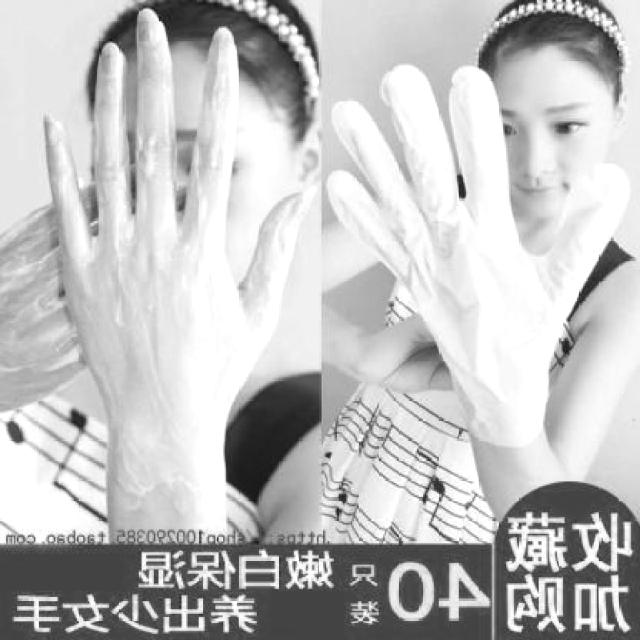face_nomask: (478, 62, 620, 225)
hand_glove: (332, 78, 640, 424)
hand_noglove: (43, 11, 315, 503), (0, 165, 189, 409), (362, 309, 448, 400)
head_nohelmet: (72, 0, 314, 109), (463, 0, 640, 74)
